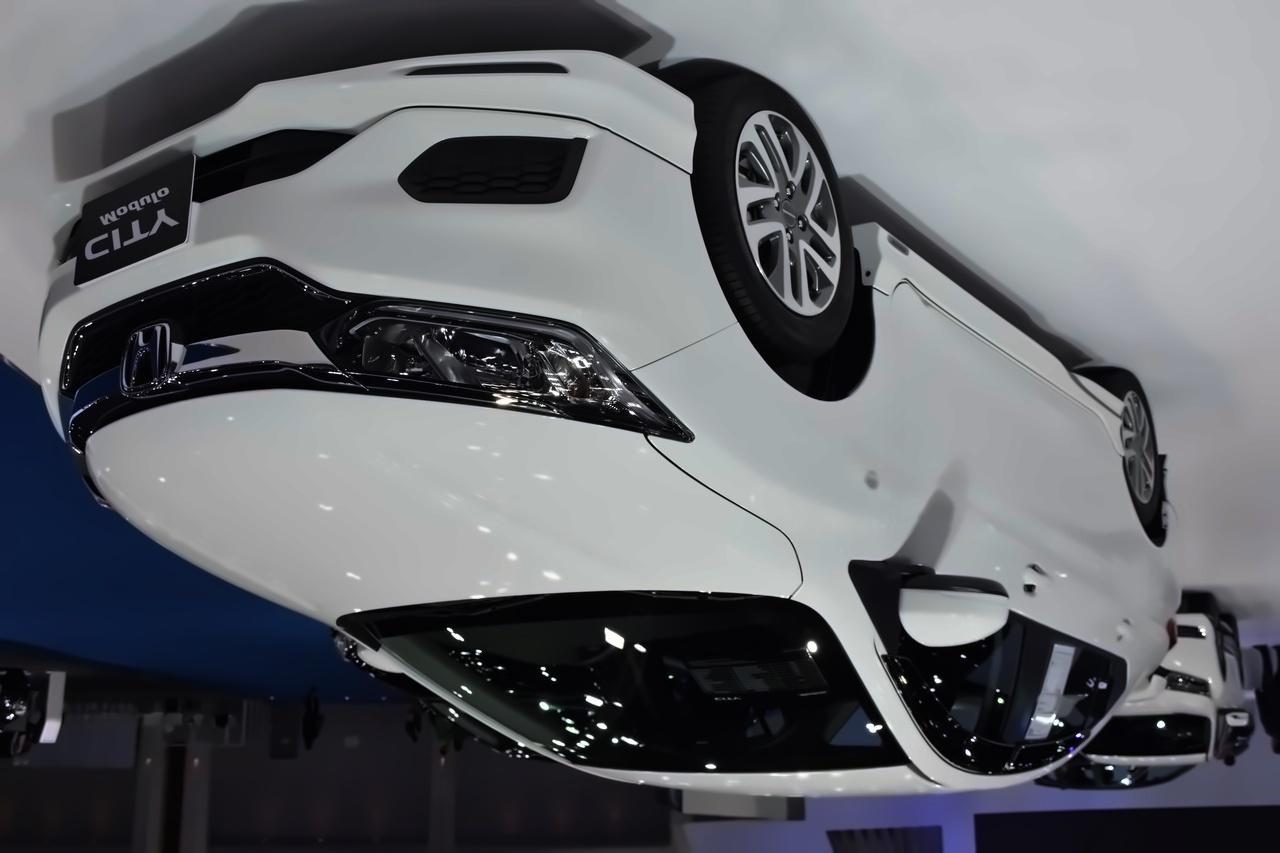Car hood: (83, 389, 804, 608)
Driver-s door - -F-R-: (824, 147, 1030, 794)
Fender - -F-R-: (617, 264, 947, 610)
Fender - -R-R-: (1083, 457, 1191, 723)
Front bumper: (20, 50, 735, 446)
Headlight - -R-: (304, 287, 696, 448)
Passenger-s door - -R-R-: (1002, 270, 1147, 804)
Side bumper - -R-: (827, 202, 1128, 480)
Side mirror - -R-: (863, 557, 1011, 653)
